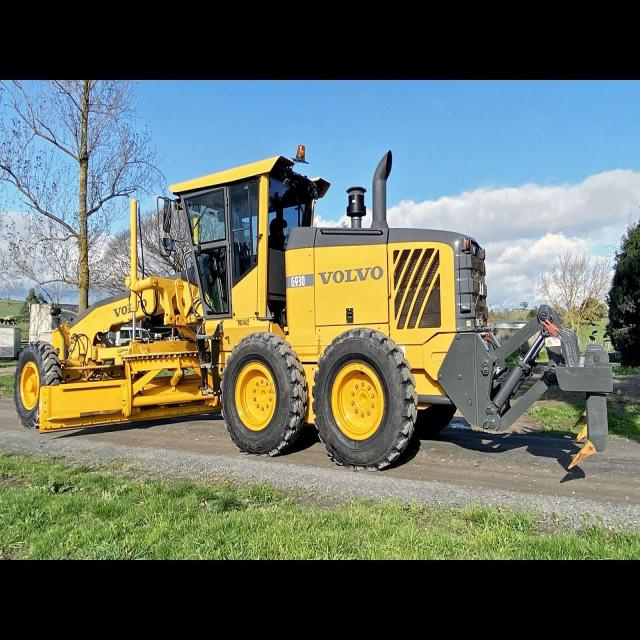Grader: (10, 151, 614, 477)
